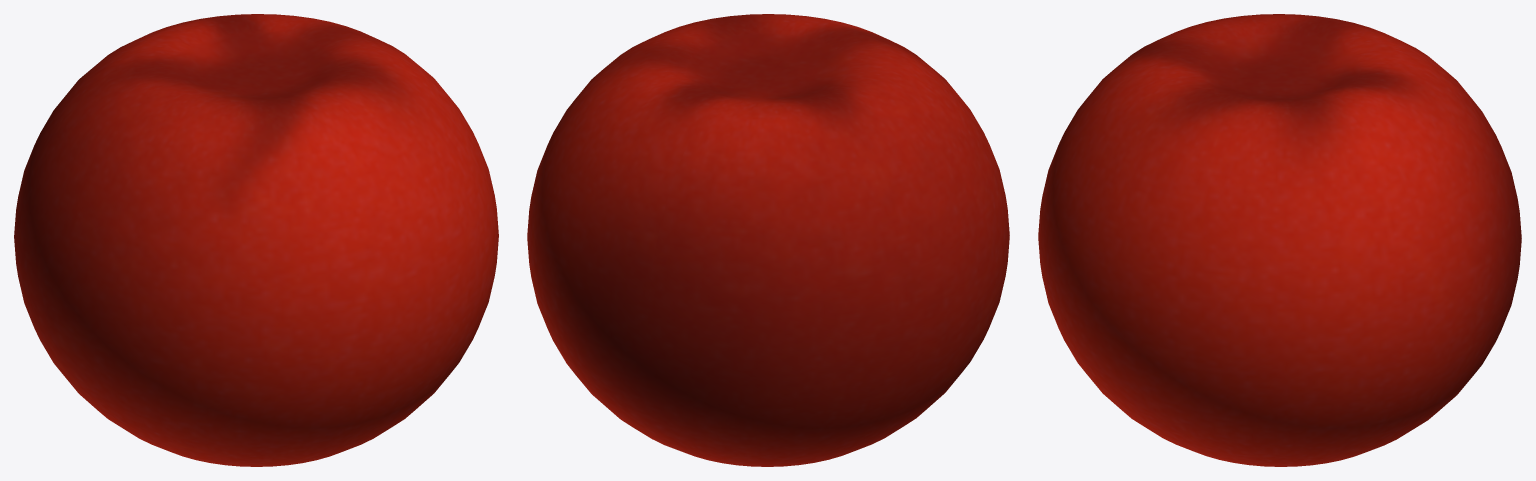
File: tomato_09.obj
3 views of the same model, side by side, from view 1: azimuth 30°, elevation 25°; view 2: azimuth 150°, elevation 25°; view 3: azimuth 270°, elevation 25° (orthographic).
Visible parts, largest first — view 1: tomato_09; view 2: tomato_09; view 3: tomato_09.
Part boxes in pixels (box(x1,y1,x2,y2)): tomato_09: box(14, 14, 498, 466); tomato_09: box(527, 14, 1009, 466); tomato_09: box(1038, 14, 1521, 466).
Bounding box in the file's own units: 3.94 × 3.44 × 3.94.
Materials: 1 (1 with a texture image).
